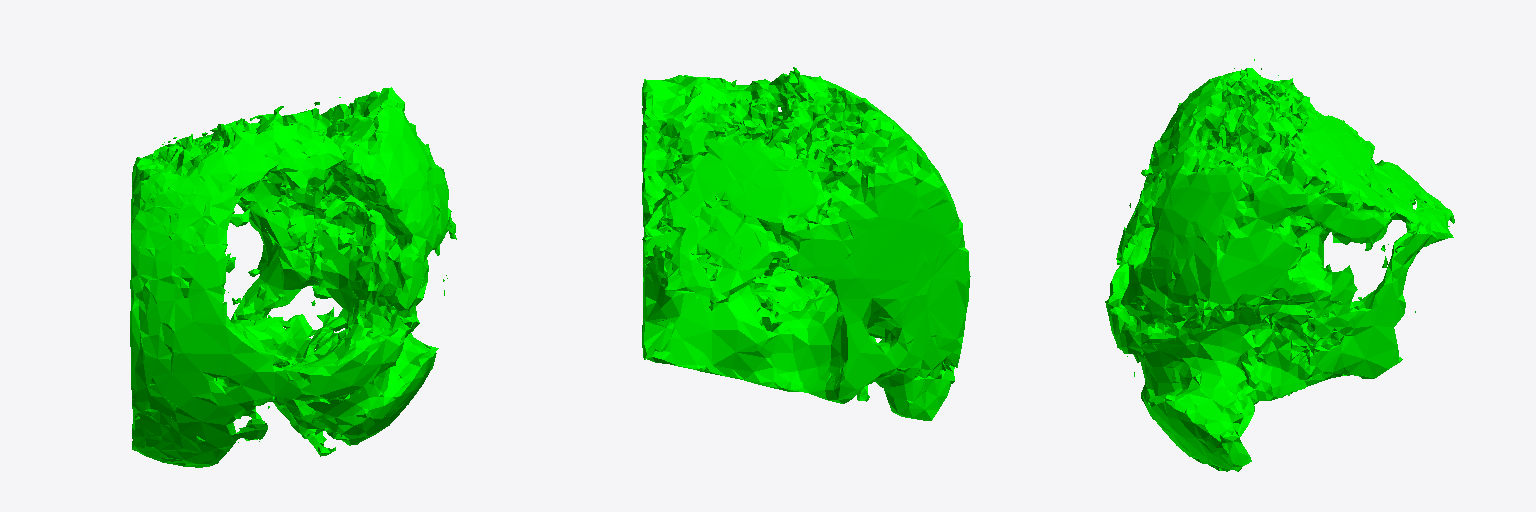
Rendered from B939XXXX-1_base_10.obj.
The picture shows the model from 3 angles: view 1: azimuth 30°, elevation 25°; view 2: azimuth 150°, elevation 25°; view 3: azimuth 270°, elevation 25°; orthographic projection.
Visible parts, largest first — view 1: 10_base; view 2: 10_base; view 3: 10_base.
Boxes of the visible parts, <box> form: 10_base: <box>130,87,456,467</box>; 10_base: <box>642,67,970,420</box>; 10_base: <box>1105,59,1454,471</box>.
Size of the model in its own units: 219 by 217 by 203.